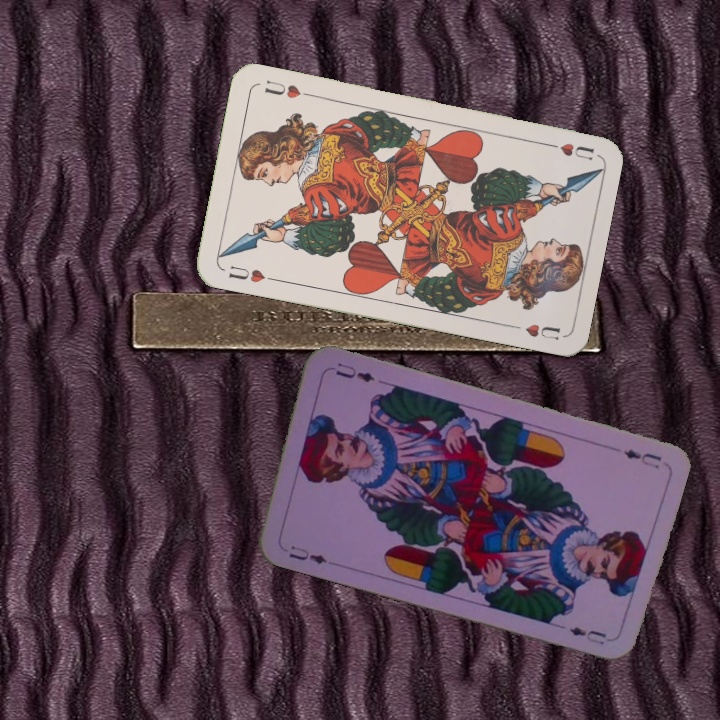EU: (284, 541, 330, 567), (620, 445, 664, 471)
HU: (539, 138, 597, 163), (224, 261, 278, 286)
